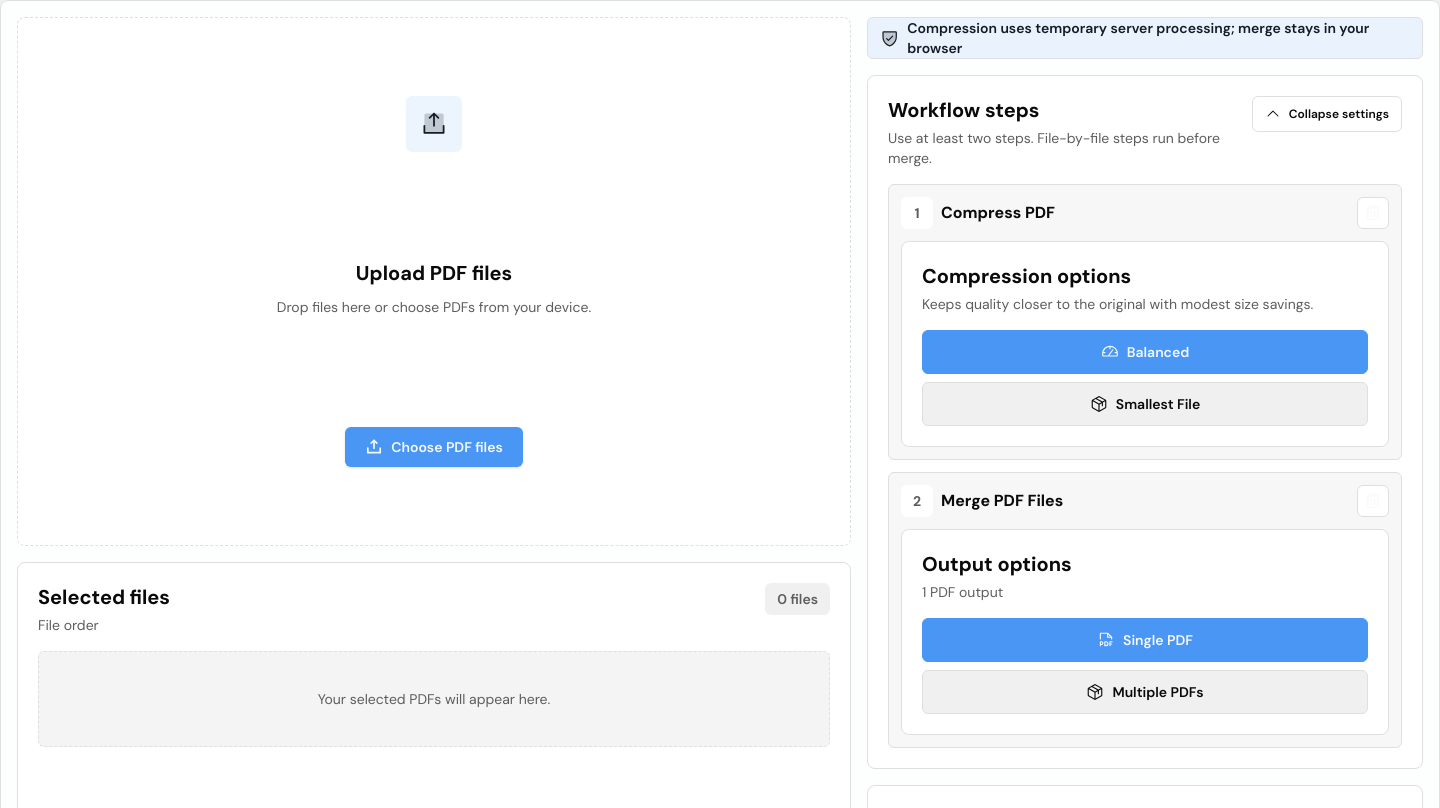
WorkflowBuilderTool › updates inline step settings
Click the radio button labelled "Smallest File" at (1145,404), box [922, 382, 1368, 426]
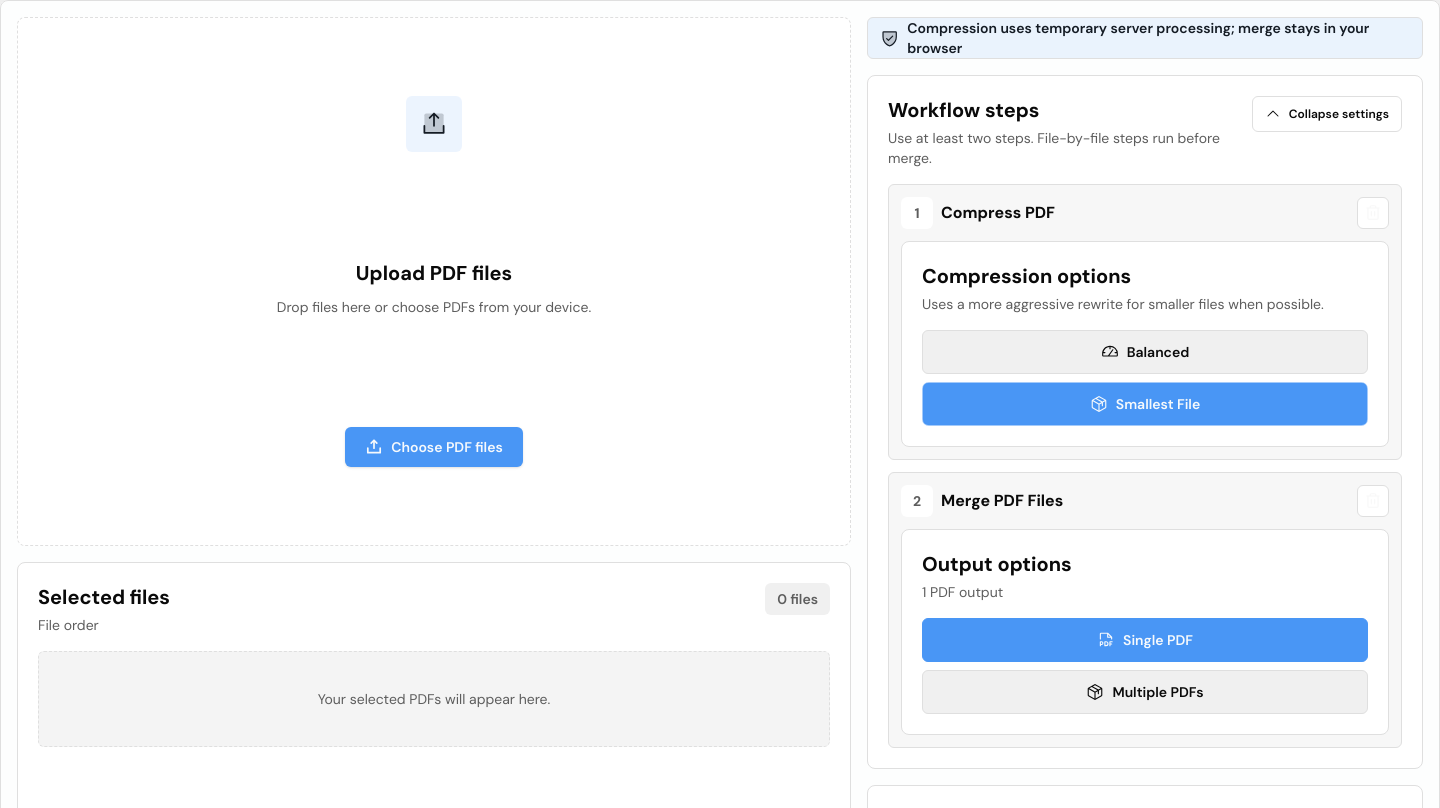
Click the radio button labelled "Multiple PDFs" at (1145,692), box [922, 670, 1368, 714]
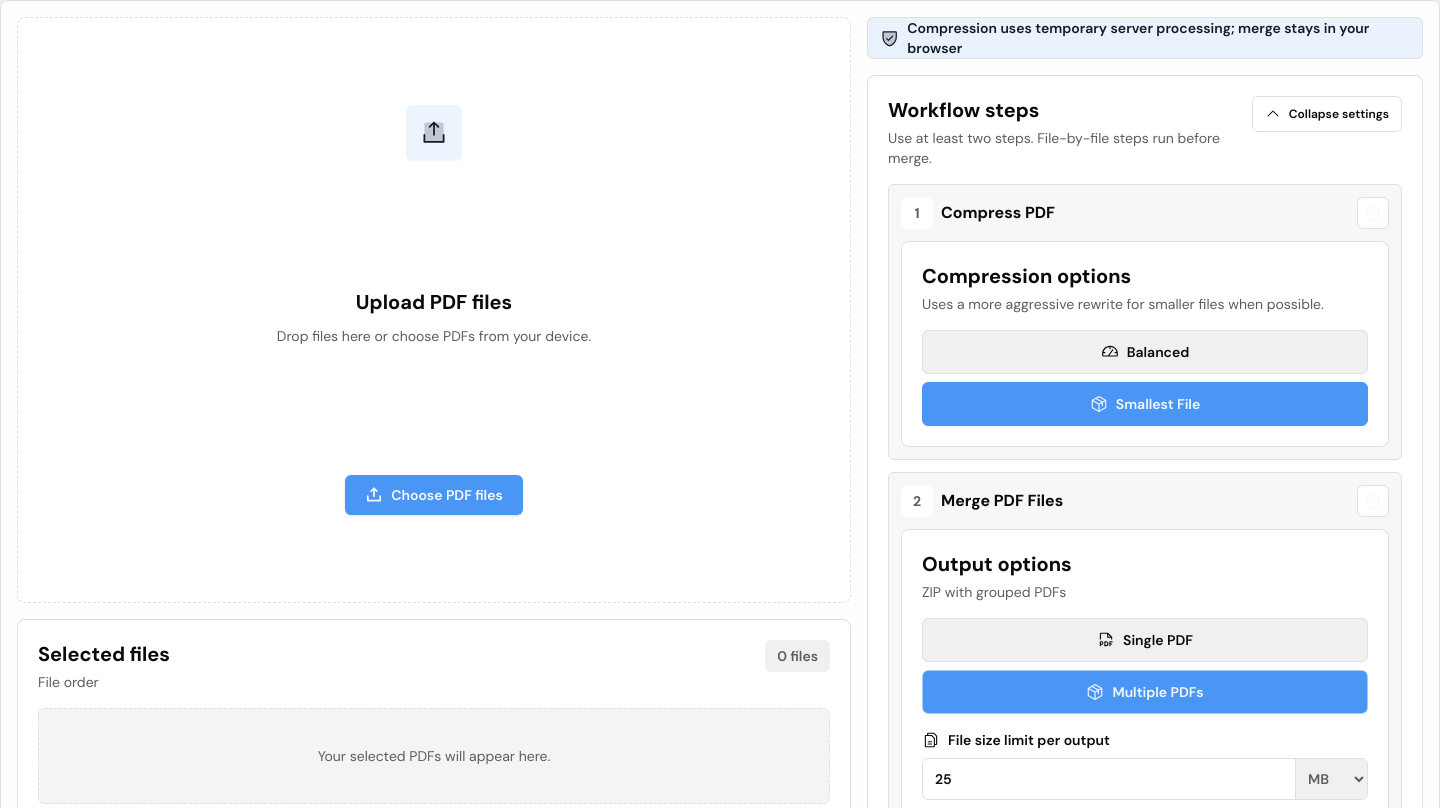
Check: the text "File size limit per output" is shown, box [922, 731, 1110, 749]
